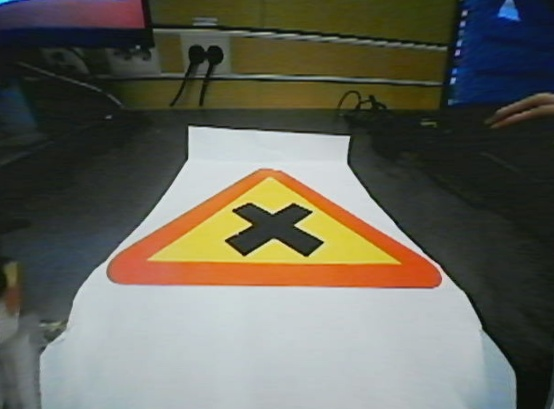junction: (104, 157, 460, 302)
